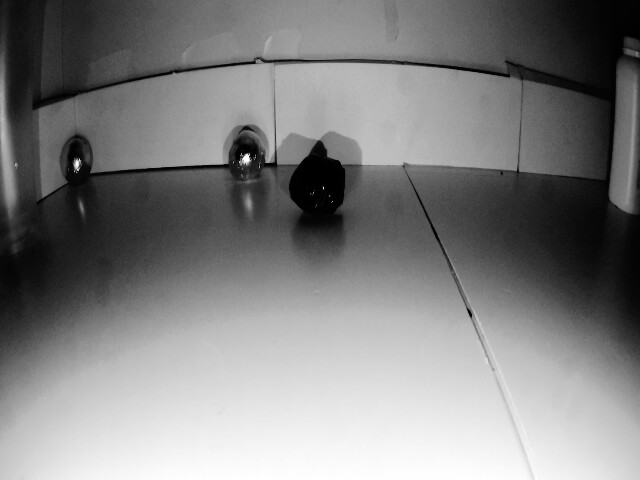black: (220, 123, 267, 180), (61, 140, 96, 183)
silver: (291, 149, 348, 222)
